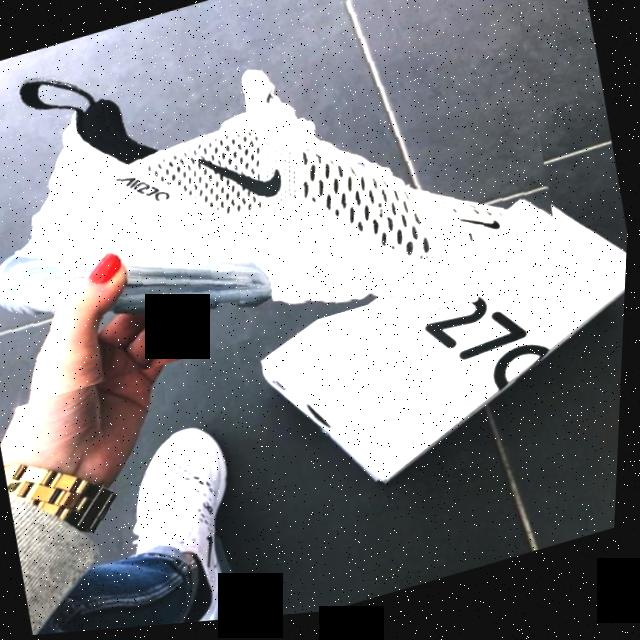shoe: (0, 0, 571, 412)
